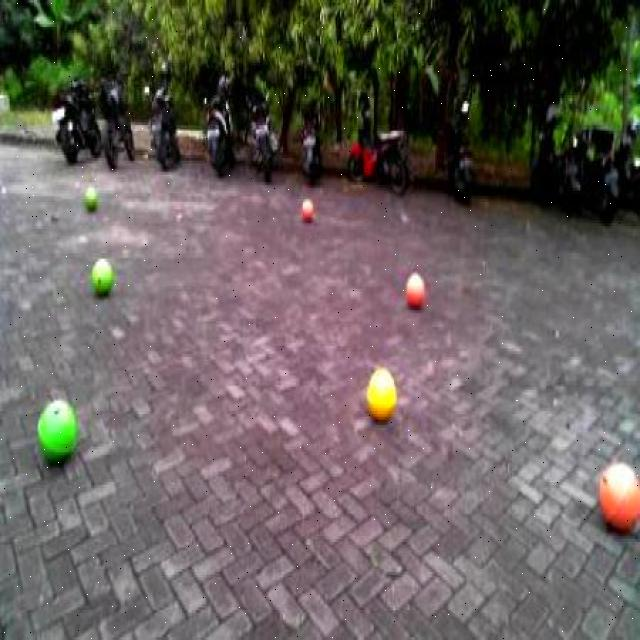buoy: (594, 446, 640, 544), (32, 392, 79, 471), (360, 355, 399, 427), (90, 252, 116, 302), (404, 265, 427, 315)
